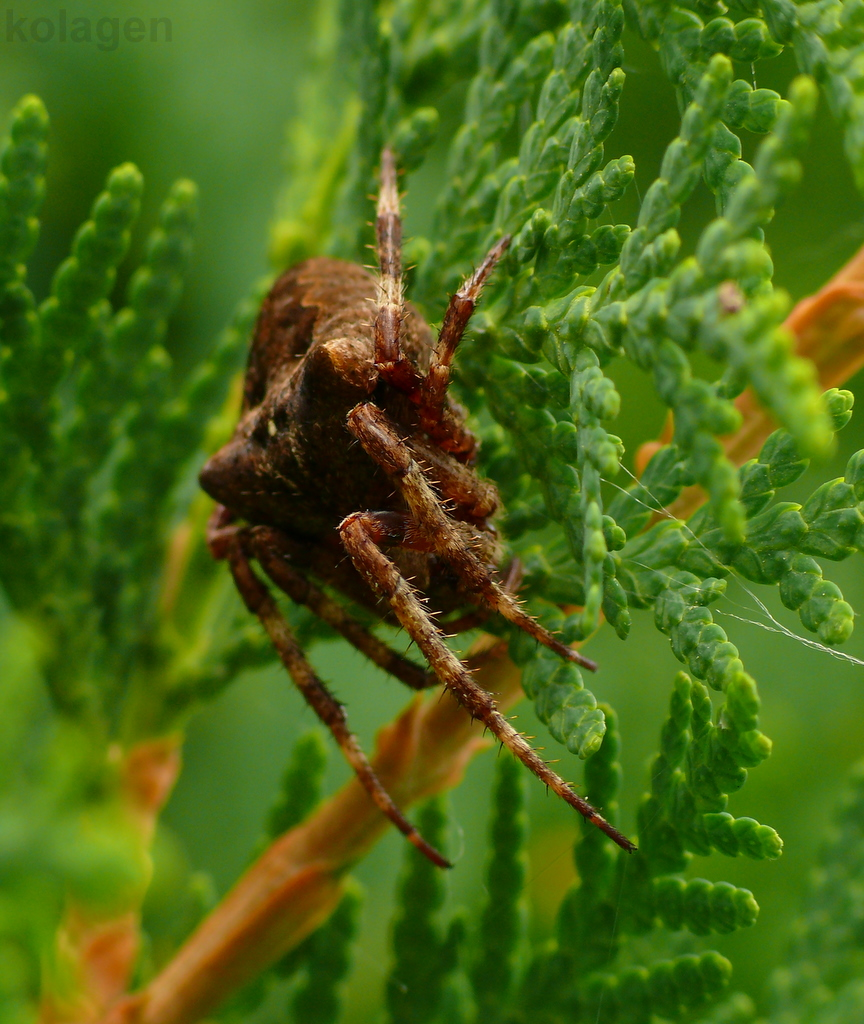spider: (171, 107, 646, 916)
